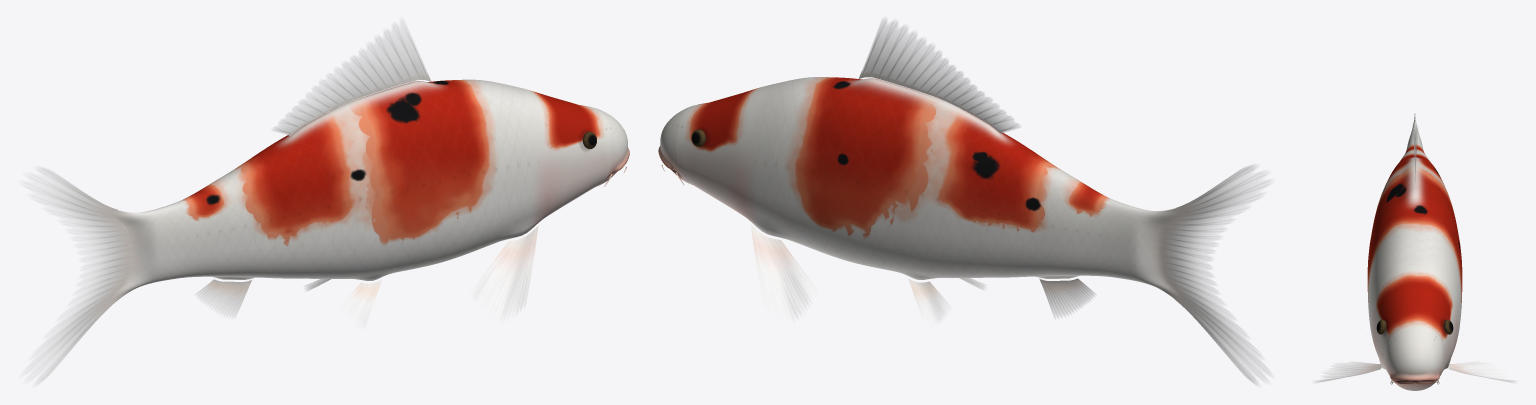
File: koi.glb
The picture shows the model from 3 angles, left to right: view 1: azimuth 30°, elevation 25°; view 2: azimuth 150°, elevation 25°; view 3: azimuth 270°, elevation 25°; orthographic projection. The views are drawn at different scales.
Parts seen in each view (by area): view 1: Koi_v3; view 2: Koi_v3; view 3: Koi_v3.
Boxes of the visible parts, <box> form: Koi_v3: <box>23,19,629,384</box>; Koi_v3: <box>658,19,1270,384</box>; Koi_v3: <box>1314,113,1515,390</box>.
Size of the model in its own units: 1 by 0.4452 by 0.3459.
2 materials, 2 textured.
